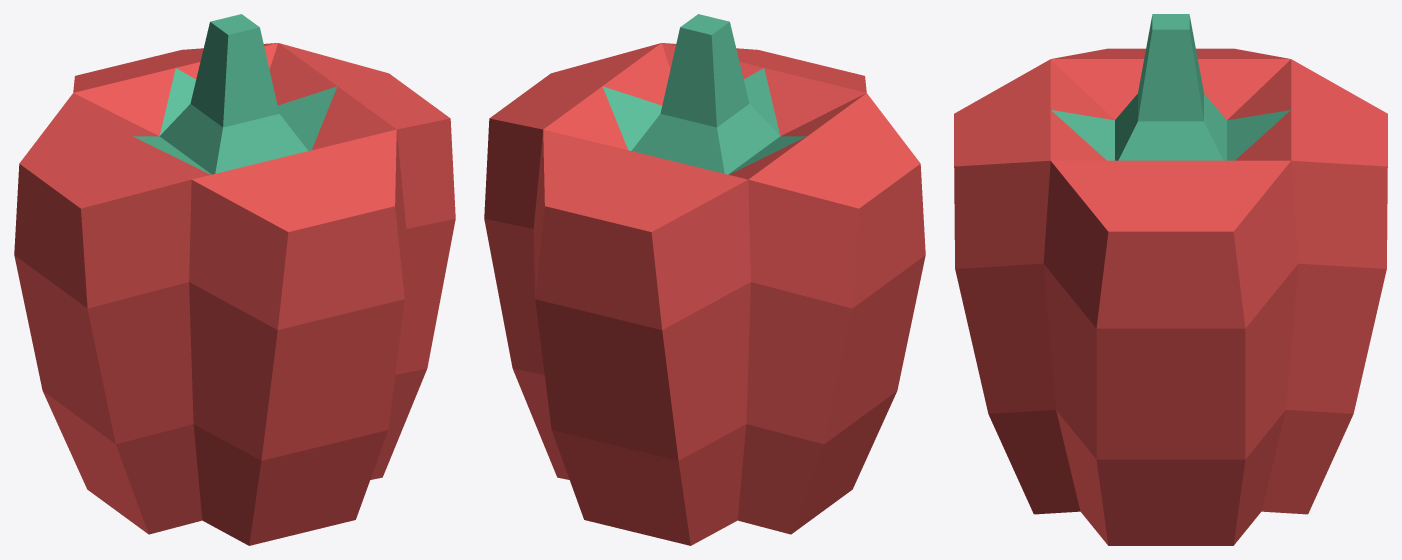
File: paprika.fbx
3 renders of one model, left to right at view 1: azimuth 30°, elevation 25°; view 2: azimuth 150°, elevation 25°; view 3: azimuth 270°, elevation 25°, orthographic.
Visible parts, largest first — view 1: paprika; view 2: paprika; view 3: paprika.
Boxes of the visible parts, x1,y1,x2,y2 form: paprika: (14, 14, 455, 545); paprika: (484, 14, 925, 545); paprika: (954, 14, 1387, 545).
Bounding box in the file's own units: 1.68 × 1.99 × 1.68.
